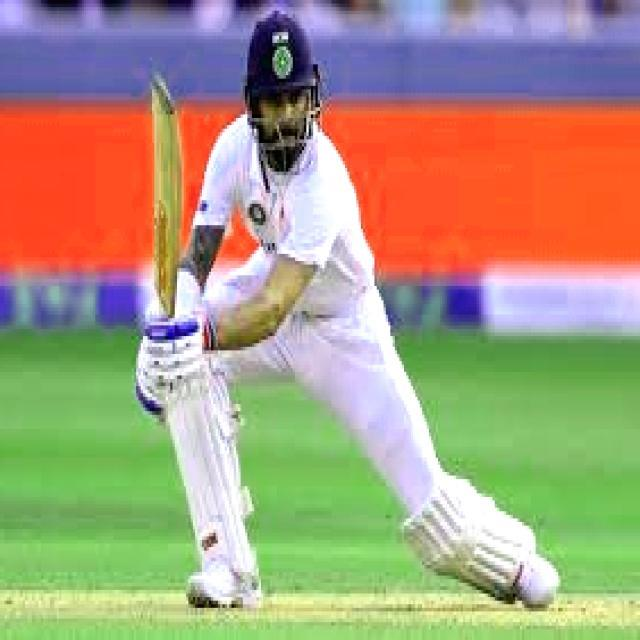bat: (141, 70, 185, 315)
toe: (147, 76, 183, 115)
